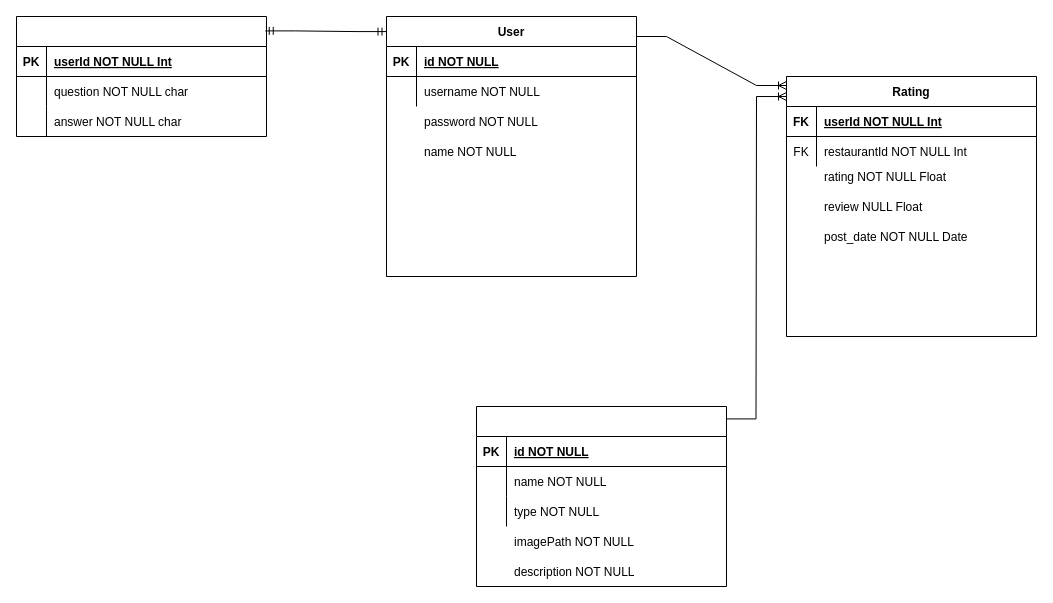
Image size: 1053x603. Some labels were removed from this diagram. The shapes that lost their labels are listed below. From the top down, each one's box as (x1, y1, x2, y2) in pixels, then its label:
(16, 16, 266, 136): Authentication
(476, 406, 726, 586): Restaurant
